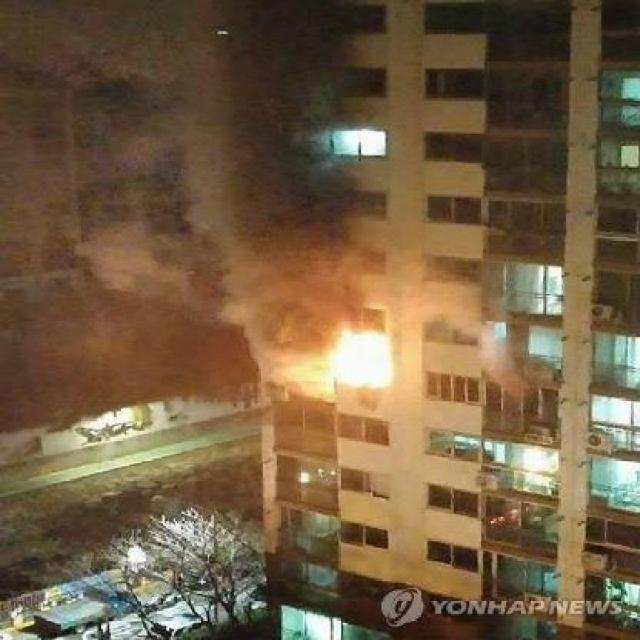Fire: (330, 318, 398, 400)
Smoke: (183, 18, 332, 376)
